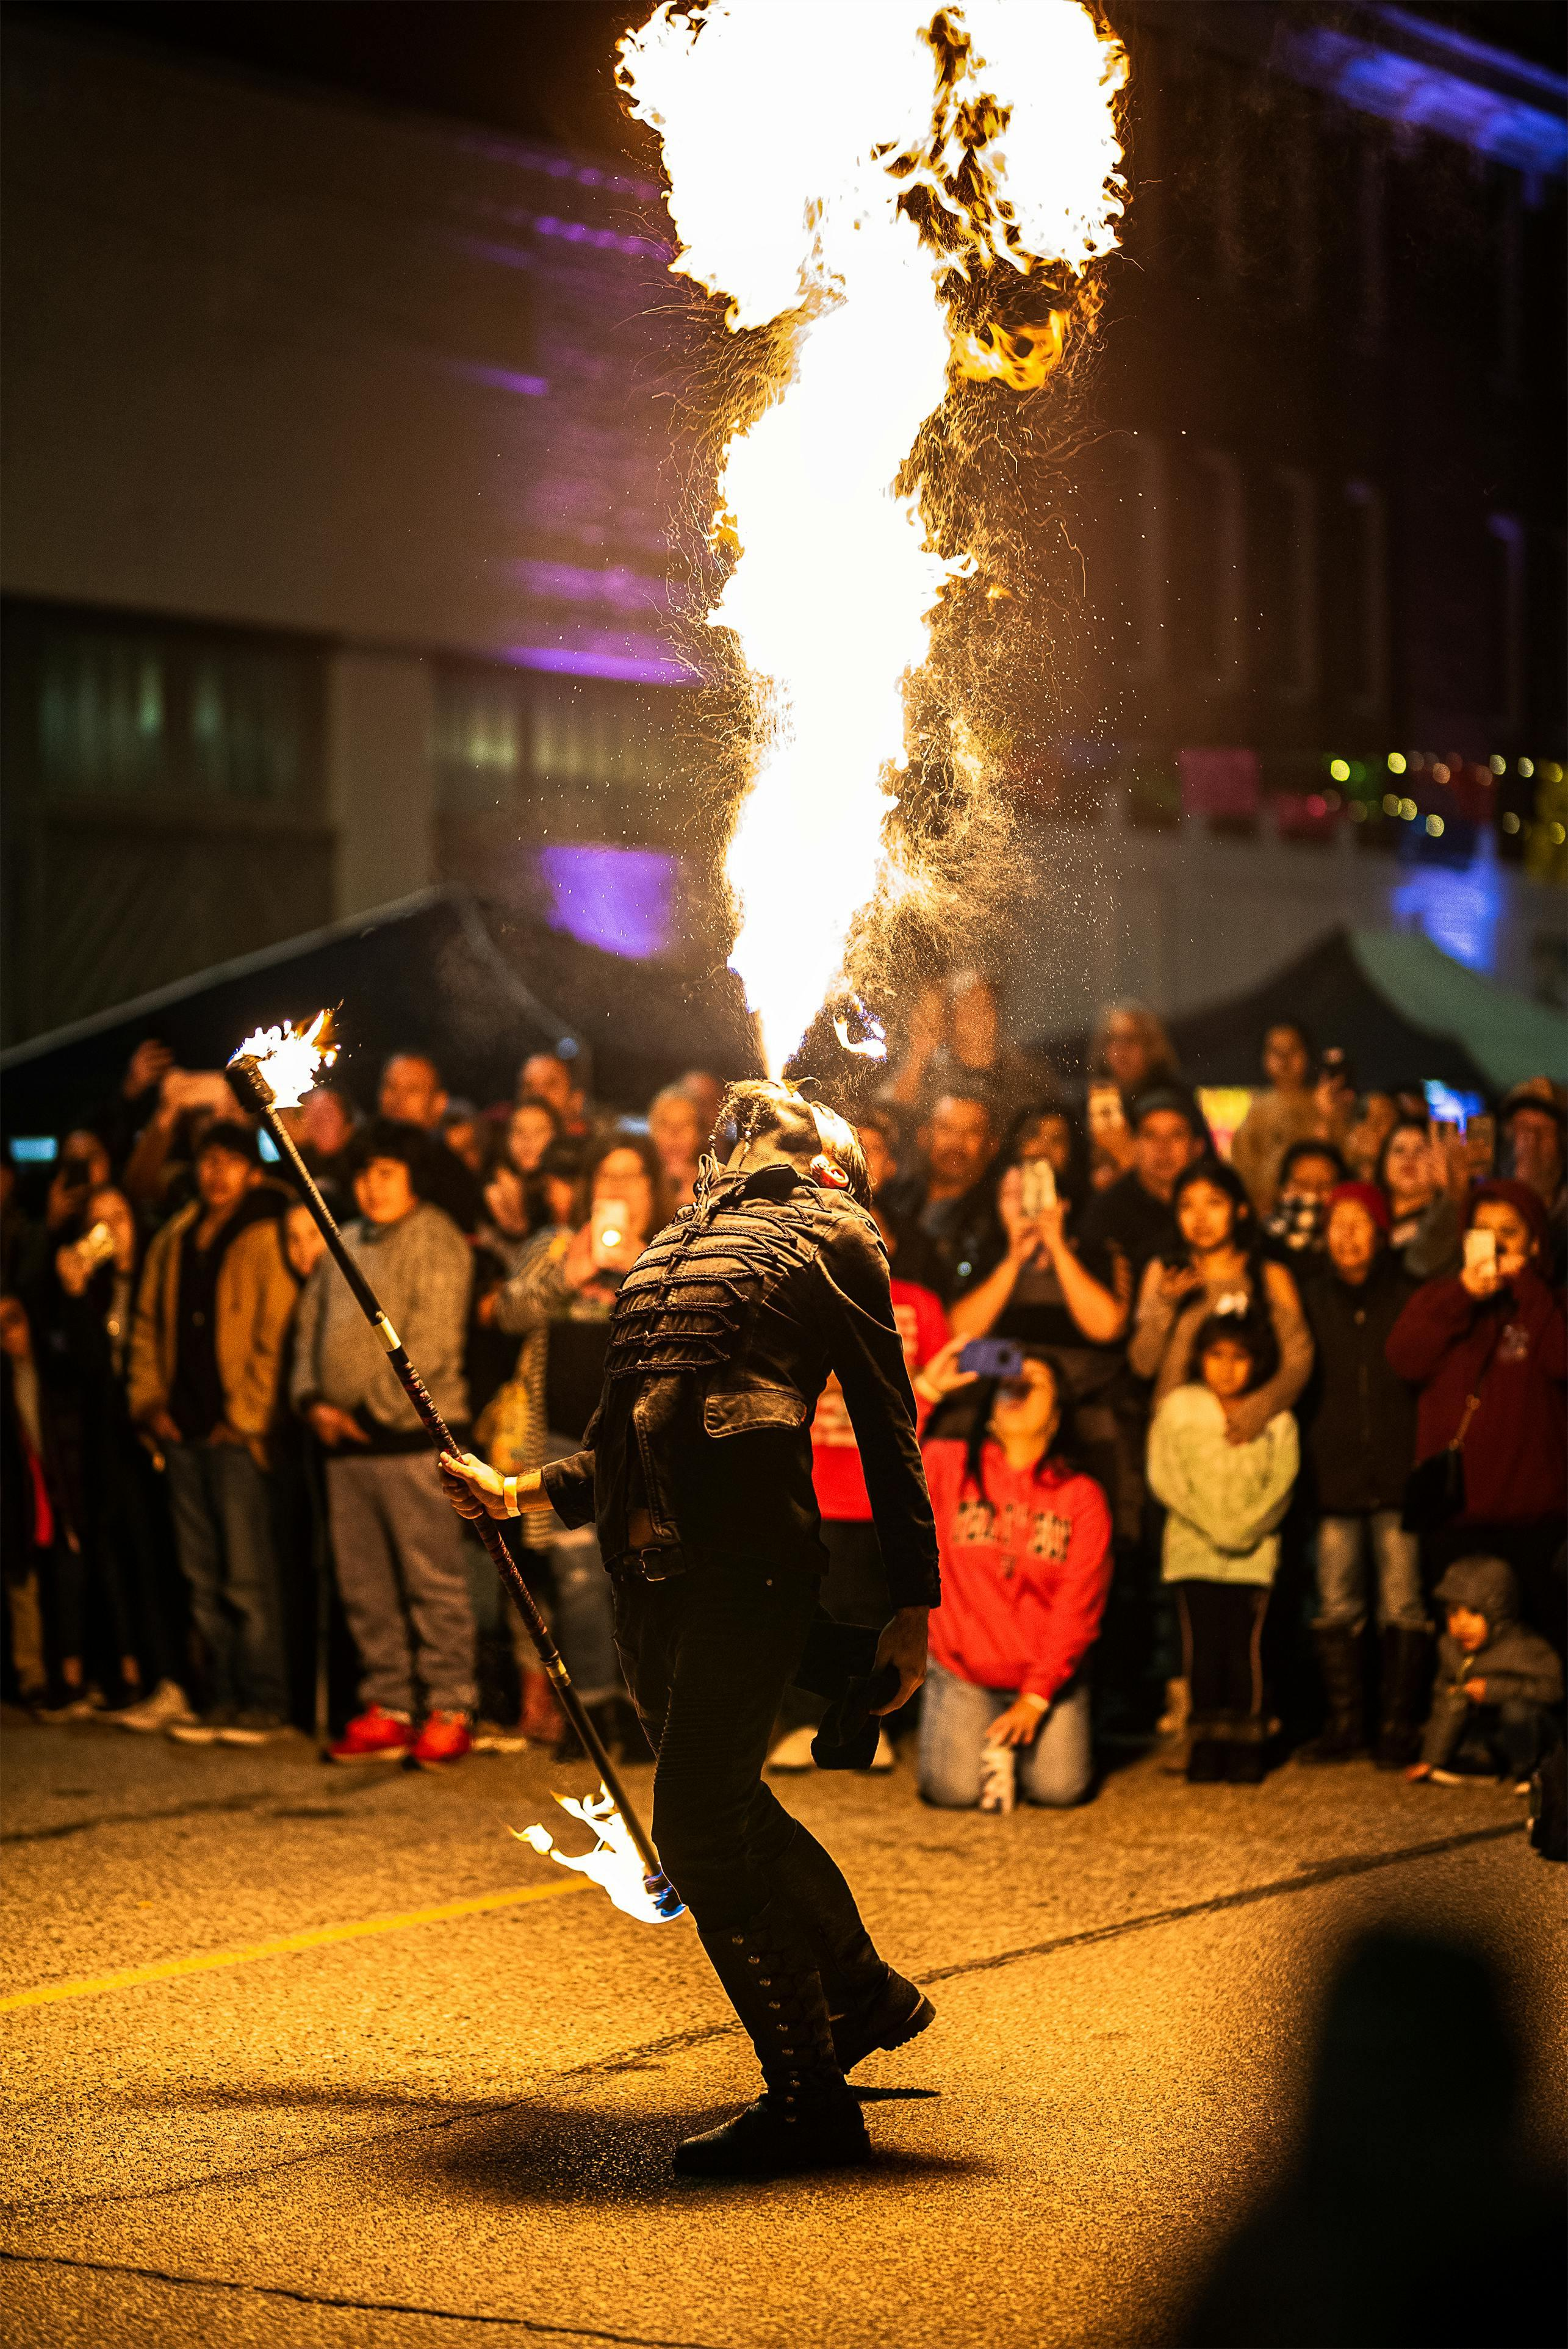Fire: (537, 0, 1209, 1146), (466, 1733, 693, 1964), (191, 990, 385, 1126)
